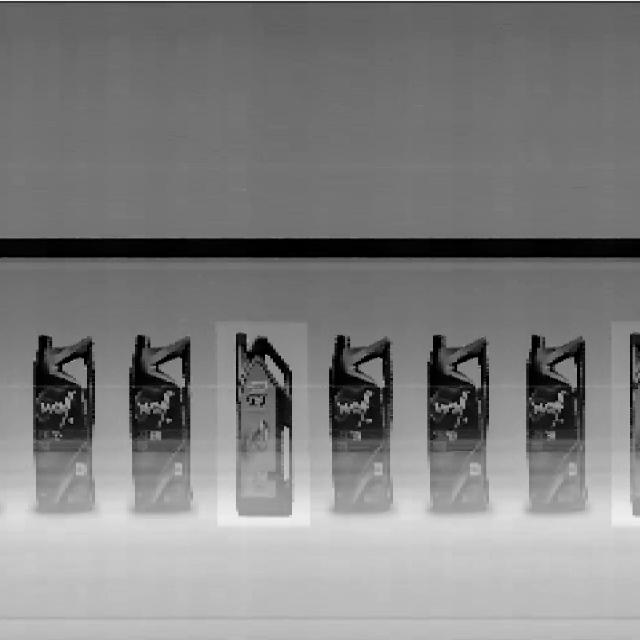motor_oil: (231, 324, 298, 520), (33, 326, 99, 522), (524, 330, 590, 523), (327, 333, 396, 516), (129, 332, 195, 523), (426, 330, 491, 523)
